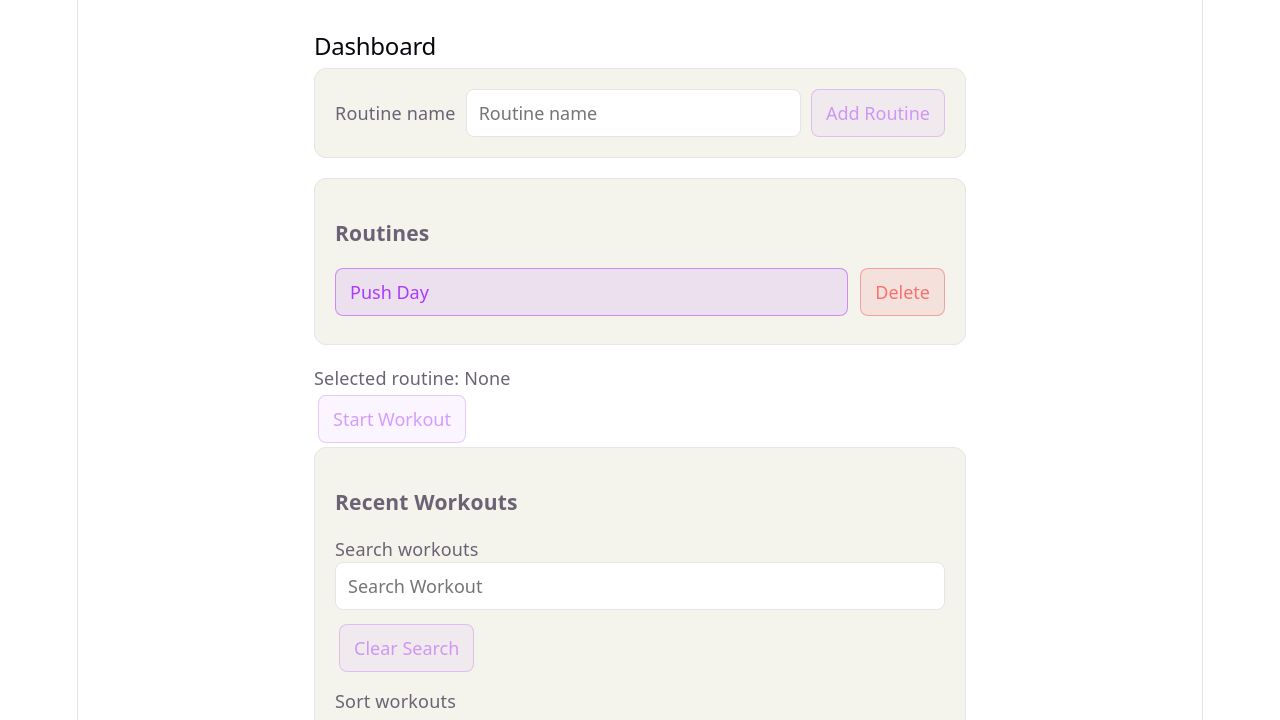
Scenario: starts the selected workout
What coordinates should you click on to do the following:
click the button "Push Day"
I would click on:
 (389, 292)
Its box is [335,268,848,316].
(page scrolled)
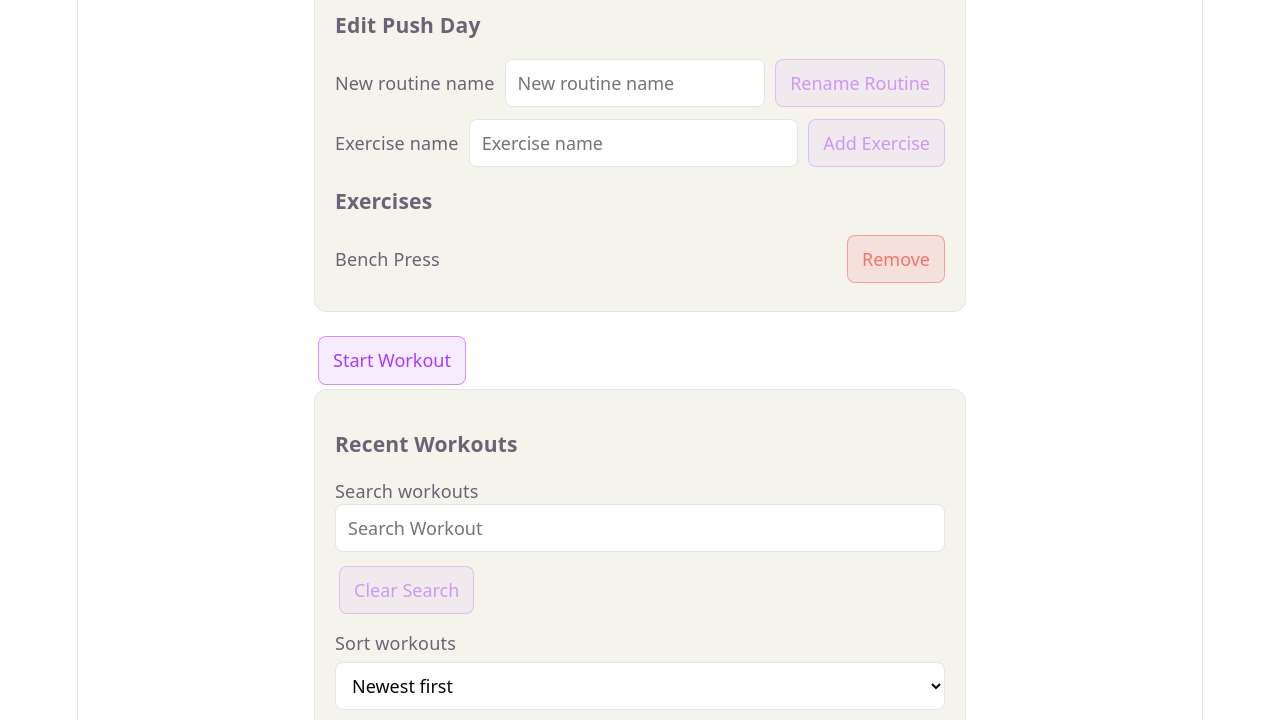
What coordinates should you click on to do the following:
click the button "Start Workout"
I would click on:
 (392, 360)
Its box is [318,336,466,384].
(page scrolled)
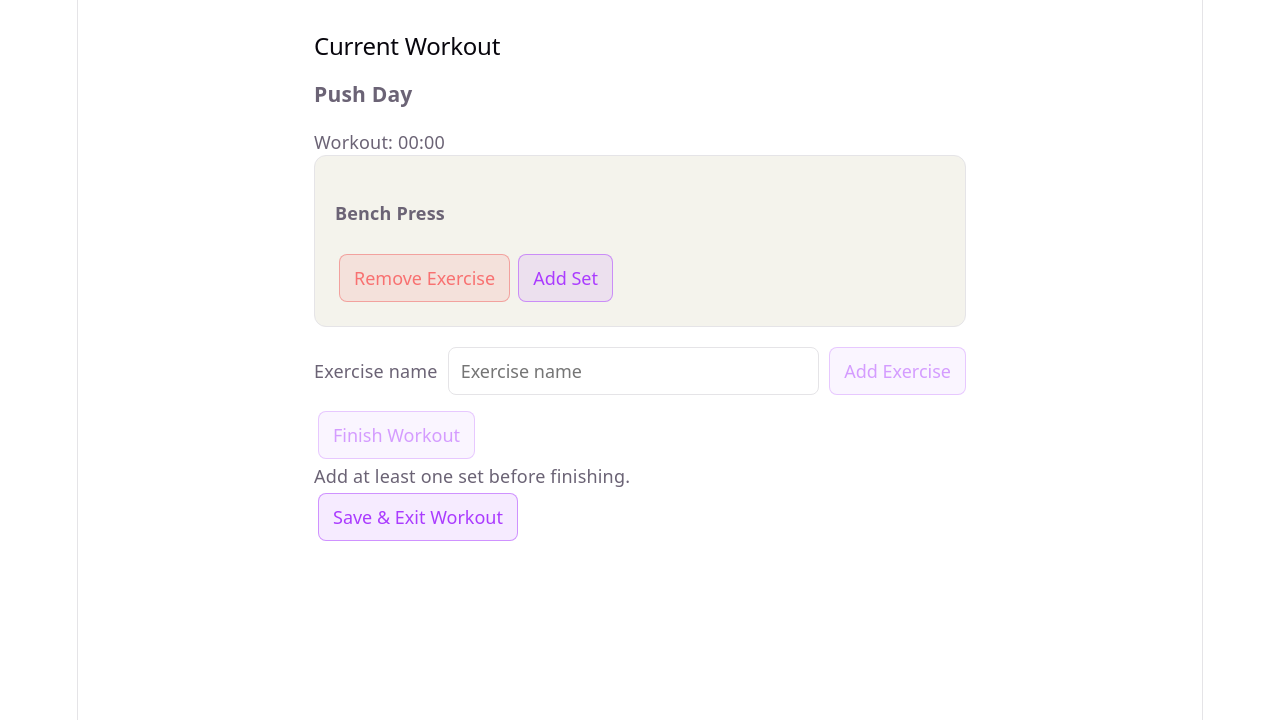
Check: the heading "Push Day" is shown, box [314,79,412,108]
Check: the heading "Current Workout" is shown, box [314,29,500,62]
